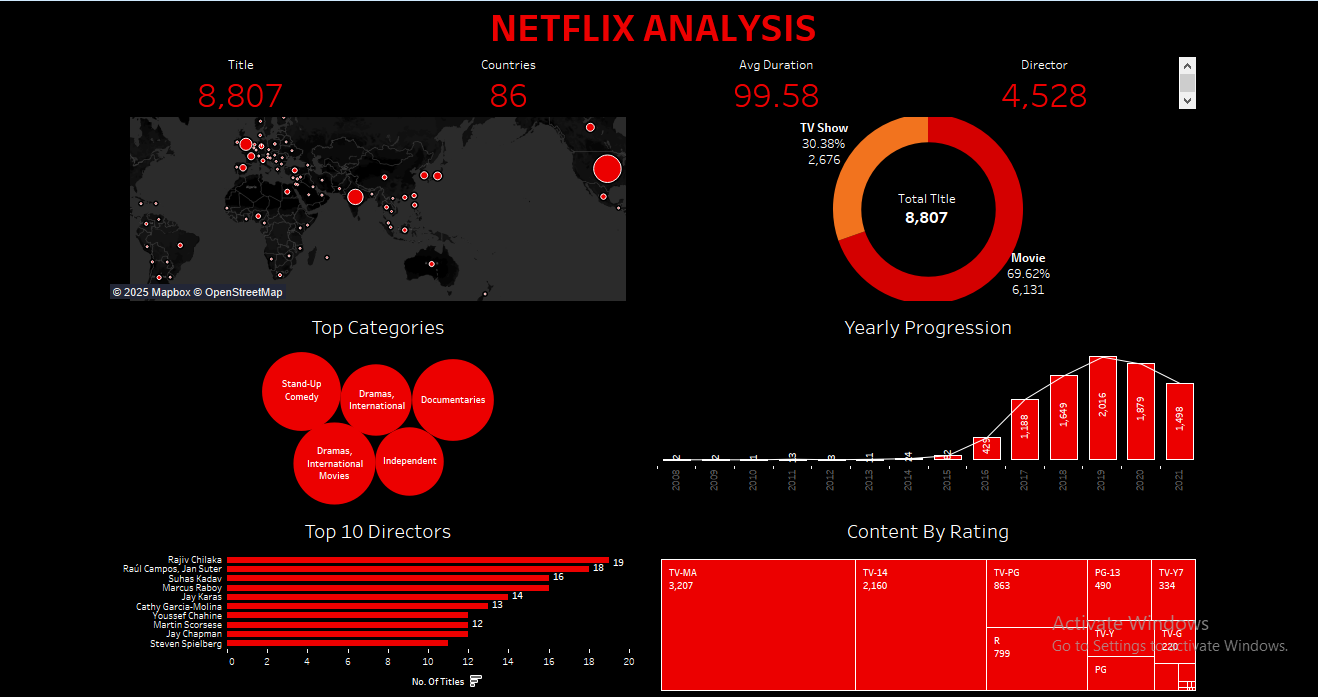

The page's visual inventory and layout, read from the dashboard file:
{"tool":"tableau","page":{"name":"Netflix Analyis Dashboard","canvas":[1100,700],"ordinal":0},"visuals":[{"type":"text","box":[0,0,1100,54]},{"type":"worksheet","title":"KPI","mark":"Text","cols":["Calculation_527202674475327489","Calculation_527202674475327489","Calculation_527202674475327489","Calculation_527202674475327489"],"box":[0,54,1100,60]},{"type":"worksheet","title":"Country Map","mark":"Pie","box":[0,114,550,192]},{"type":"worksheet","title":"Donut Chart","mark":"Pie","rows":["Calculation_527202674475327489","Calculation_527202674475327489"],"box":[550,114,550,192]},{"type":"worksheet","title":"Top Categories","mark":"Circle","box":[0,306,550,204]},{"type":"worksheet","title":"Yearly Progression","mark":"Bar","rows":["netflix_titles.csv_889112C826264F2AA3E59425DC3D235C","netflix_titles.csv_889112C826264F2AA3E59425DC3D235C"],"cols":["date_added"],"box":[550,306,549.9,204]},{"type":"worksheet","title":"Top 10 Directors","mark":"Bar","rows":["director"],"cols":["netflix_titles.csv_889112C826264F2AA3E59425DC3D235C"],"box":[0,510,550,190]},{"type":"worksheet","title":"Content By Rating","mark":"Square","box":[550,510,550,190]}]}

Visuals, with their boxes on the page's 1100x700 design canvas (x1, y1, x2, y2). These are canvas units, not pixel positions in the 1318x697 screenshot, which may show the page scaled, cropped or inside an application window:
text: {"x1": 0, "y1": 0, "x2": 1100, "y2": 54}
"KPI" worksheet (Text marks): {"x1": 0, "y1": 54, "x2": 1100, "y2": 114}
"Country Map" worksheet (Pie marks): {"x1": 0, "y1": 114, "x2": 550, "y2": 306}
"Donut Chart" worksheet (Pie marks): {"x1": 550, "y1": 114, "x2": 1100, "y2": 306}
"Top Categories" worksheet (Circle marks): {"x1": 0, "y1": 306, "x2": 550, "y2": 510}
"Yearly Progression" worksheet (Bar marks): {"x1": 550, "y1": 306, "x2": 1100, "y2": 510}
"Top 10 Directors" worksheet (Bar marks): {"x1": 0, "y1": 510, "x2": 550, "y2": 700}
"Content By Rating" worksheet (Square marks): {"x1": 550, "y1": 510, "x2": 1100, "y2": 700}
